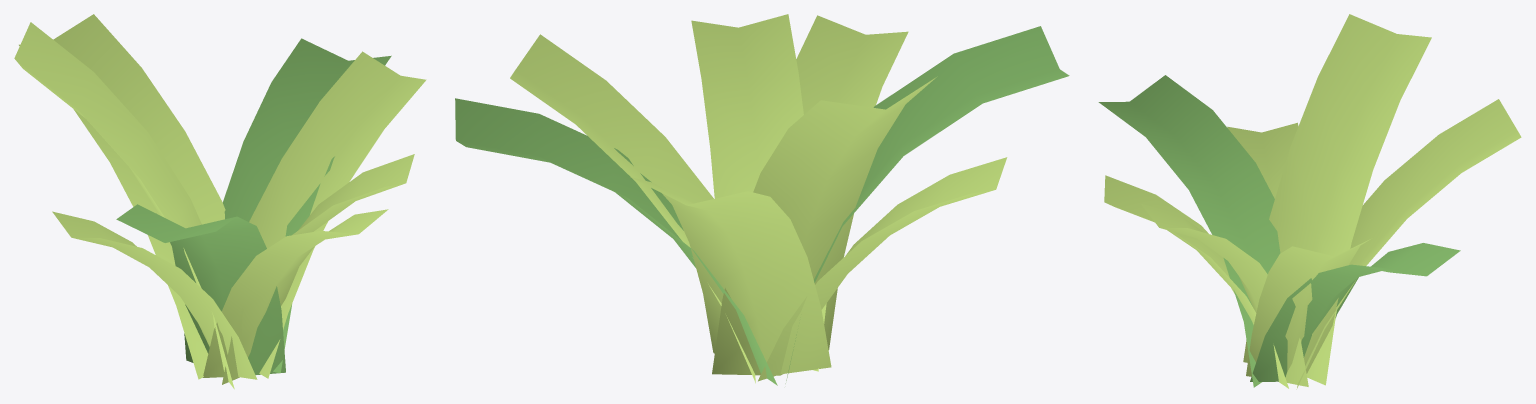
File: plant_tuft_2.glb
3 renders of one model, left to right at view 1: azimuth 30°, elevation 25°; view 2: azimuth 150°, elevation 25°; view 3: azimuth 270°, elevation 25°, orthographic. The views are drawn at different scales.
Parts seen in each view (by area): view 1: plant_tuft_2; view 2: plant_tuft_2; view 3: plant_tuft_2.
Part boxes in pixels (<box>): plant_tuft_2: <box>14,14,426,389</box>; plant_tuft_2: <box>455,14,1069,385</box>; plant_tuft_2: <box>1098,14,1521,389</box>.
Size of the model in its own units: 1.47 by 1.12 by 1.51.
